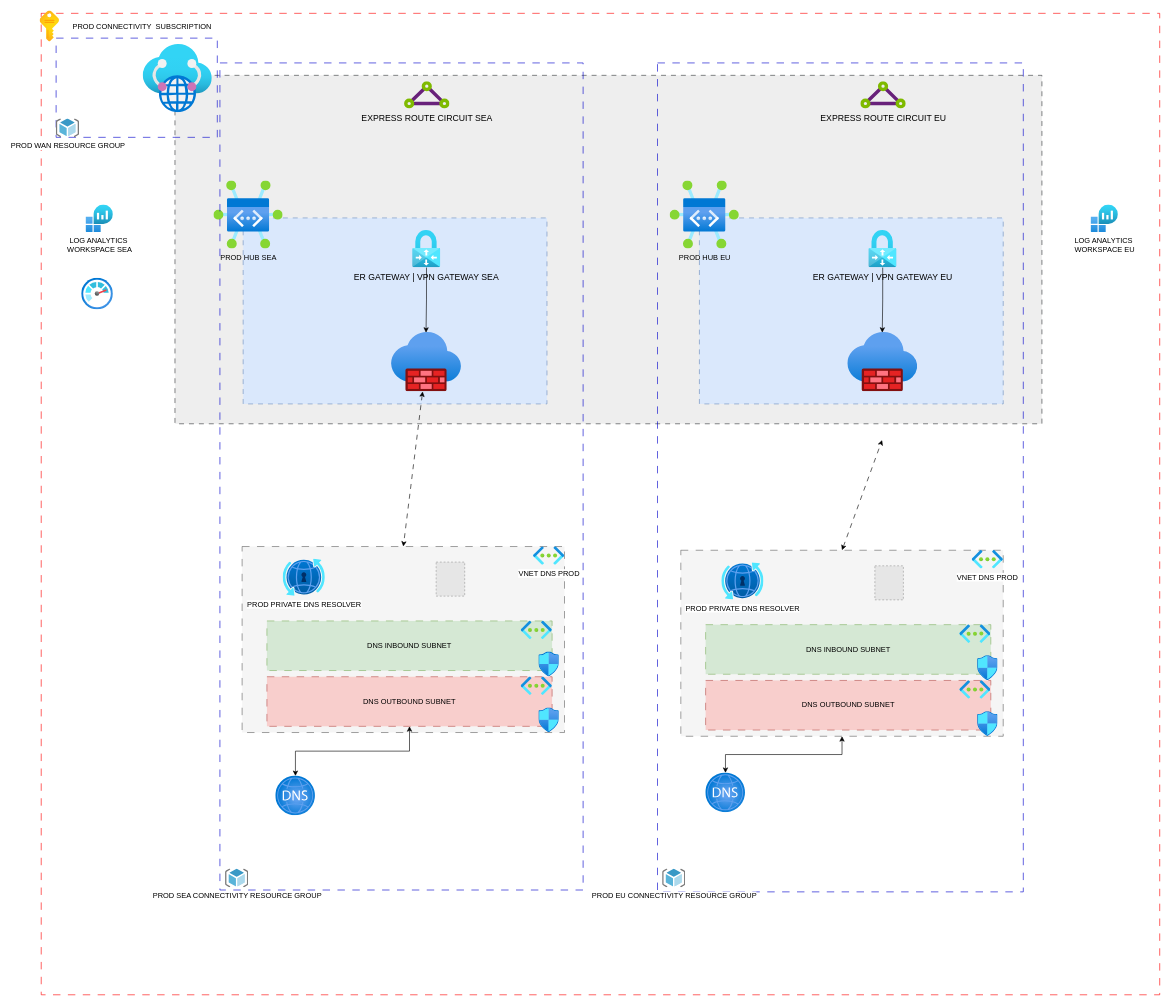
The diagram is 1171 pixels wide and 1006 high, and some of its shapes have lost their labels. Grey dashed boxes stand in for pictures. Here are the shapes that lost their labels. From the top down, the centre of each, then its label:
[177,78]: VIRTUAL WAN
[97,293]: AZURE MONITOR
[295,795]: SEA PPRIVATE DNS ZONE
[725,792]: EU PRIVATE DNS ZONE
